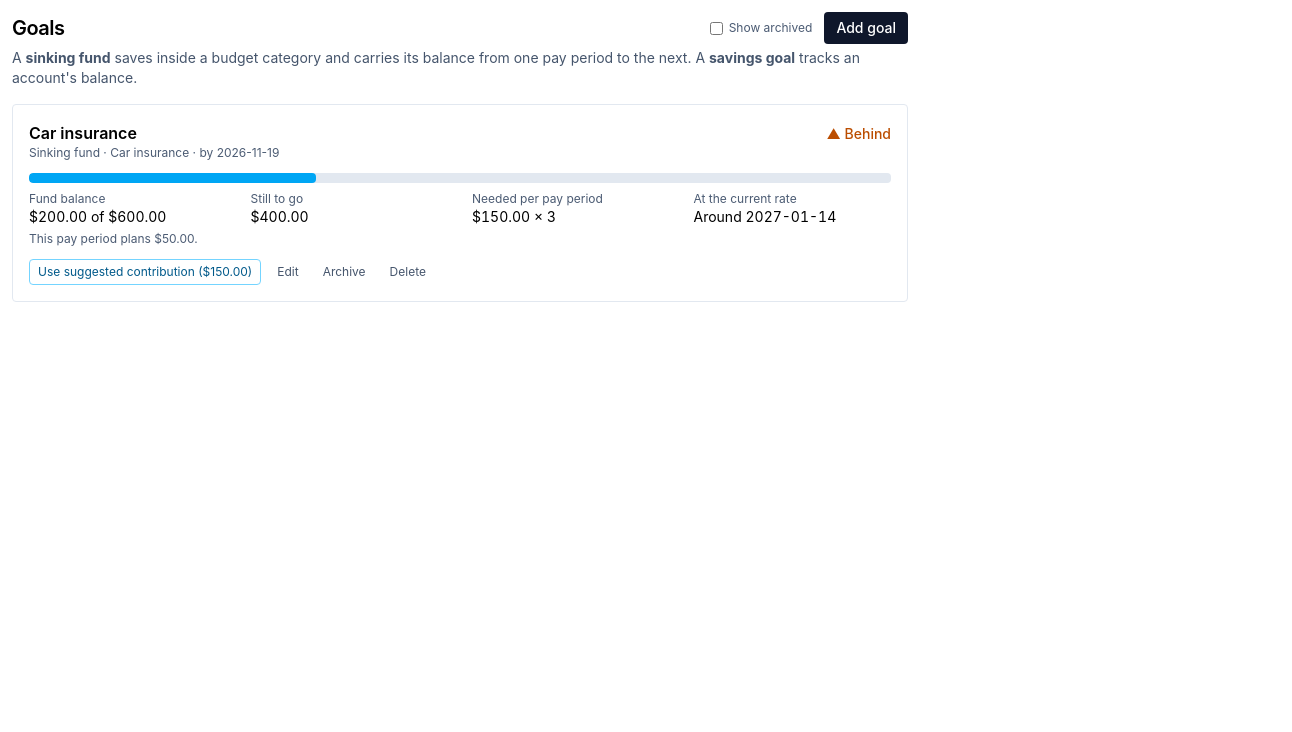
it: GoalsPage › uses the suggested contribution
This screenshot has width=1292, height=732.
Click the button "Use suggested contribution ($150.00)": [145, 272] box [29, 259, 261, 285]
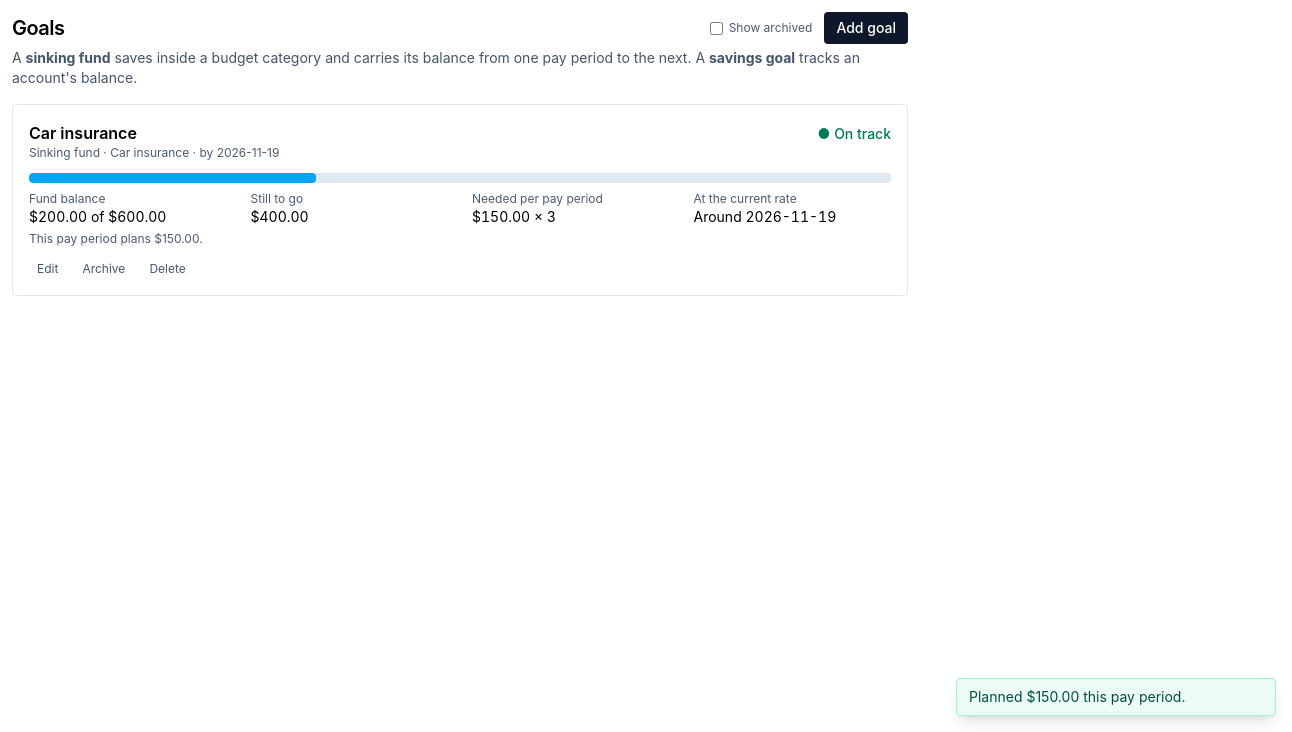
Expected: the text with test id "goal-status" reads "● On track", [818, 125, 891, 142]
Expected: the button "Use suggested contribution" is gone
